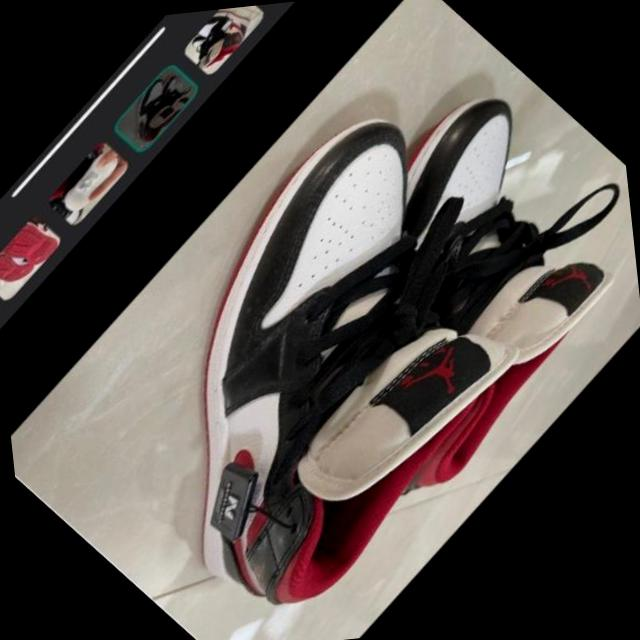nike_fake_jordan: (0, 69, 626, 640), (206, 59, 640, 534)
